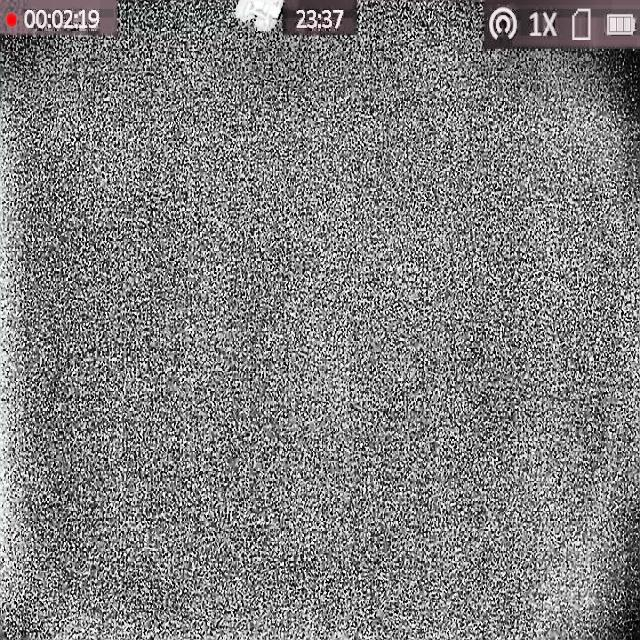drone: (231, 0, 283, 31)
